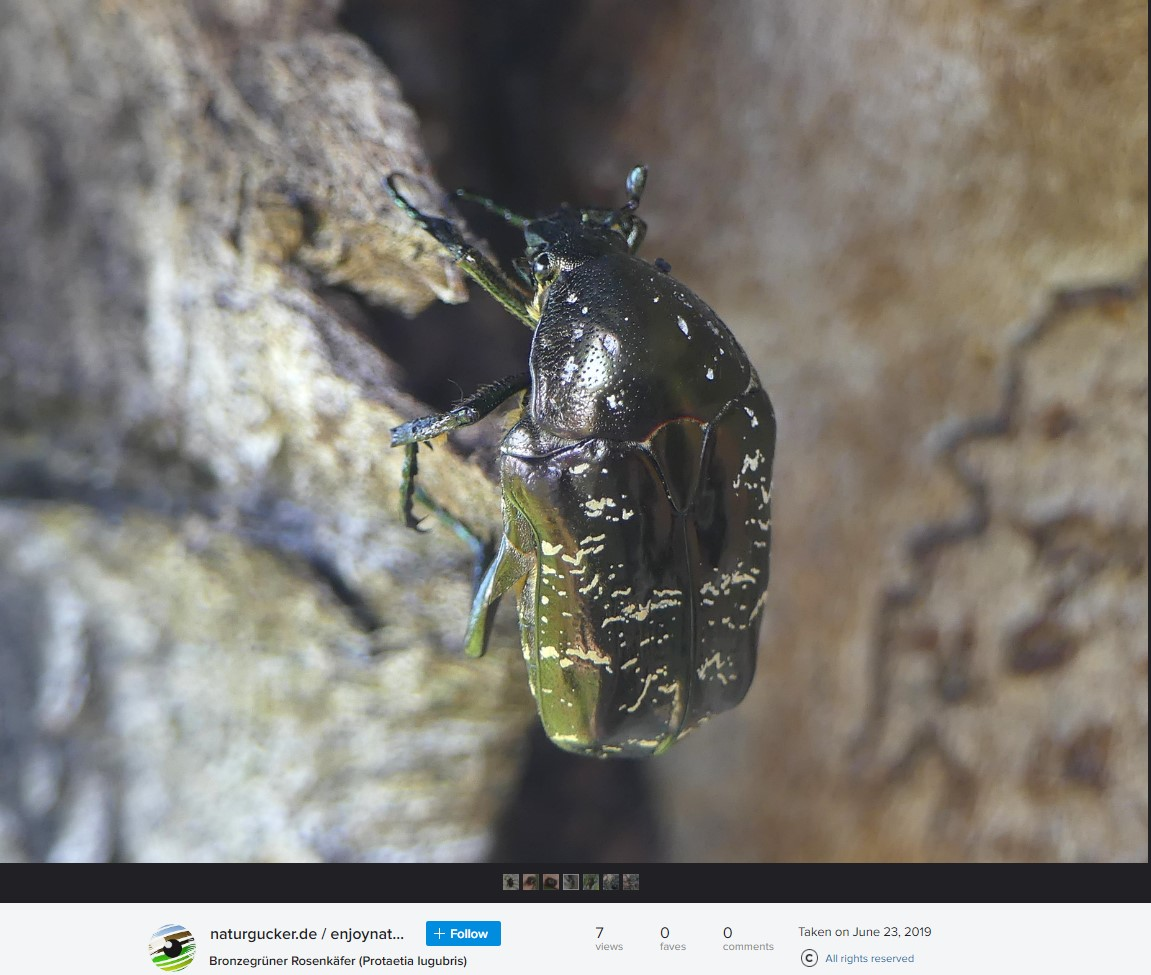Protaetia_lugubris: (370, 154, 787, 768)
